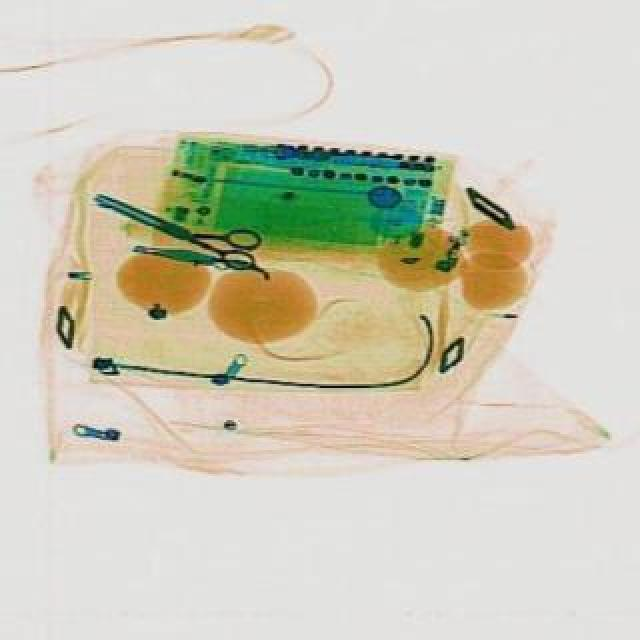pliers: (90, 182, 270, 276)
